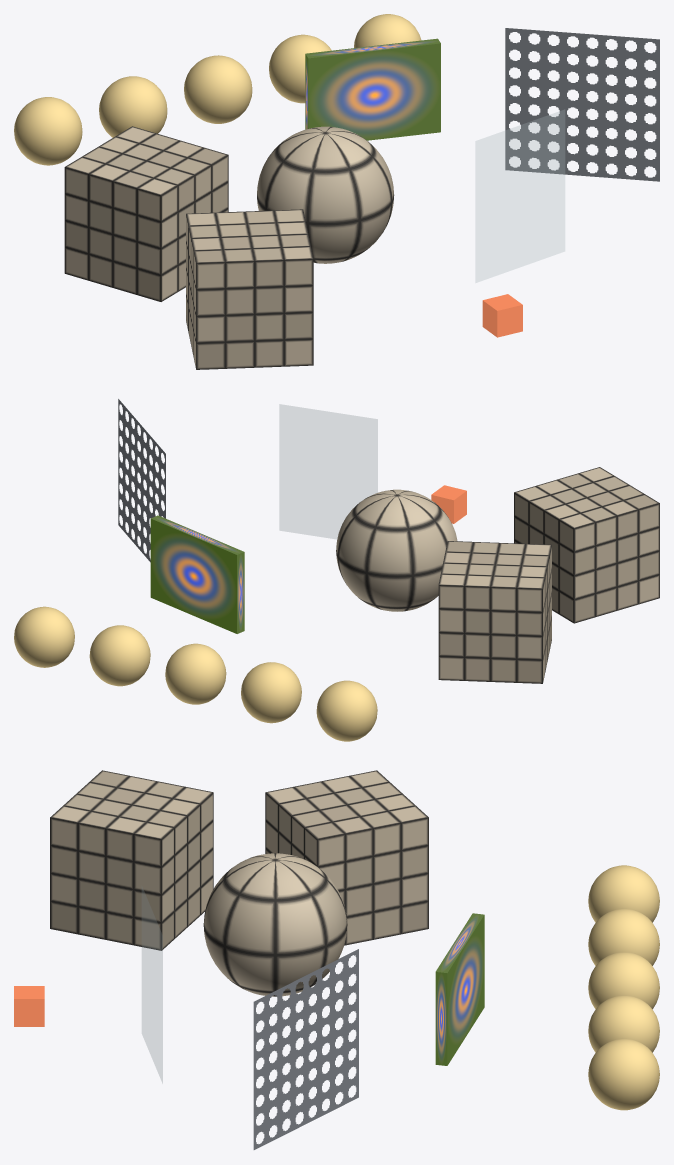
The model's file is pbr_scene.gltf.
The picture shows the model from 3 angles, top to bottom: view 1: azimuth 30°, elevation 25°; view 2: azimuth 150°, elevation 25°; view 3: azimuth 270°, elevation 25°; orthographic projection. The views are drawn at different scales.
Parts seen in each view (by area): view 1: tile box, tile box (mirrored), grate, tile sphere, glass, panel, gold 2, gold 0, gold 1, gold 3, gold 4, marker; view 2: tile box (mirrored), tile box, tile sphere, glass, panel, grate, gold 0, gold 1, gold 4, gold 2, gold 3, marker; view 3: tile box (mirrored), tile box, tile sphere, grate, panel, gold 4, glass, gold 2, gold 0, gold 3, gold 1, marker.
Part boxes in pixels (x1,y1,x2,y2): tile box: (64,126,228,301); tile box (mirrored): (186,209,313,369); grate: (505,28,659,181); tile sphere: (257,126,394,263); glass: (475,109,564,282); panel: (305,38,440,140); gold 2: (184,55,252,123); gold 0: (14,97,82,165); gold 1: (99,76,167,137); gold 3: (269,34,331,103); gold 4: (354,14,421,47); marker: (482,294,522,337); tile box (mirrored): (514,467,659,623); tile box: (438,541,551,683); tile sphere: (336,489,457,611); glass: (279,404,377,538); panel: (150,515,244,633); grate: (118,399,165,562); gold 0: (316,680,377,741); gold 1: (241,662,301,723); gold 4: (14,606,74,667); gold 2: (165,643,226,704); gold 3: (89,625,150,686); marker: (431,485,466,523); tile box (mirrored): (50,770,213,950); tile box: (265,770,428,945); tile sphere: (203,853,347,996); grate: (253,949,358,1149); panel: (435,913,484,1065); gold 4: (588,1038,659,1110); glass: (142,887,162,1083); gold 2: (588,952,659,1009); gold 0: (588,865,659,922); gold 3: (588,995,659,1052); gold 1: (588,908,659,965); marker: (14,986,44,1026).
Size of what is drawn, in the model's own units: 6.31 by 1.65 by 6.3.
10 materials, 2 textured.
